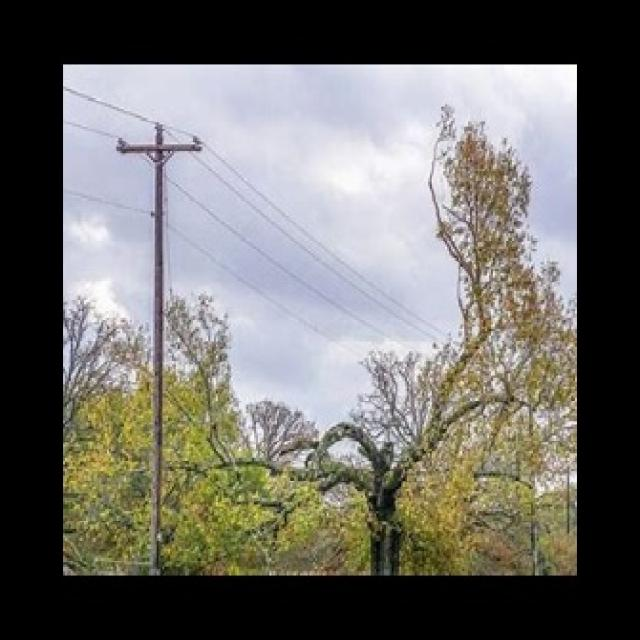utility poles: (108, 98, 210, 577)
